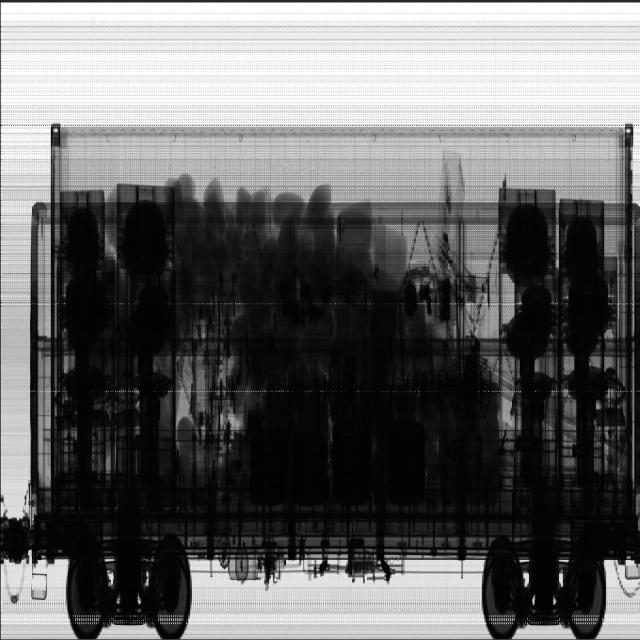textiles: (166, 173, 407, 291)
